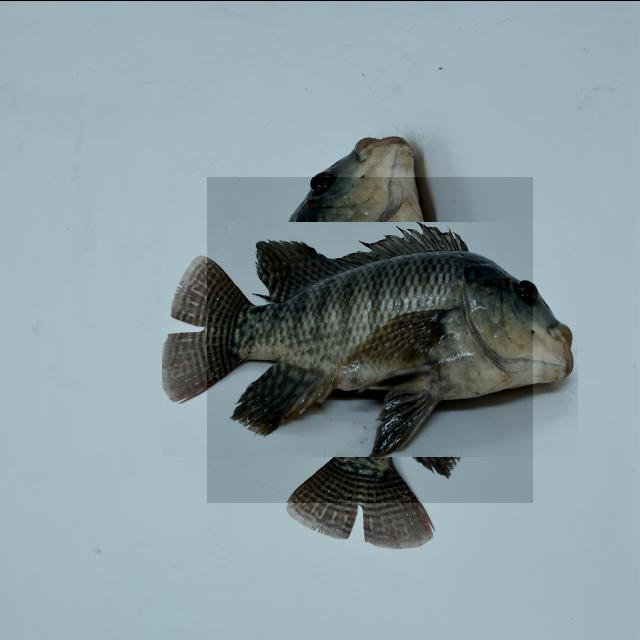Healthy Fish: (207, 176, 534, 502)
